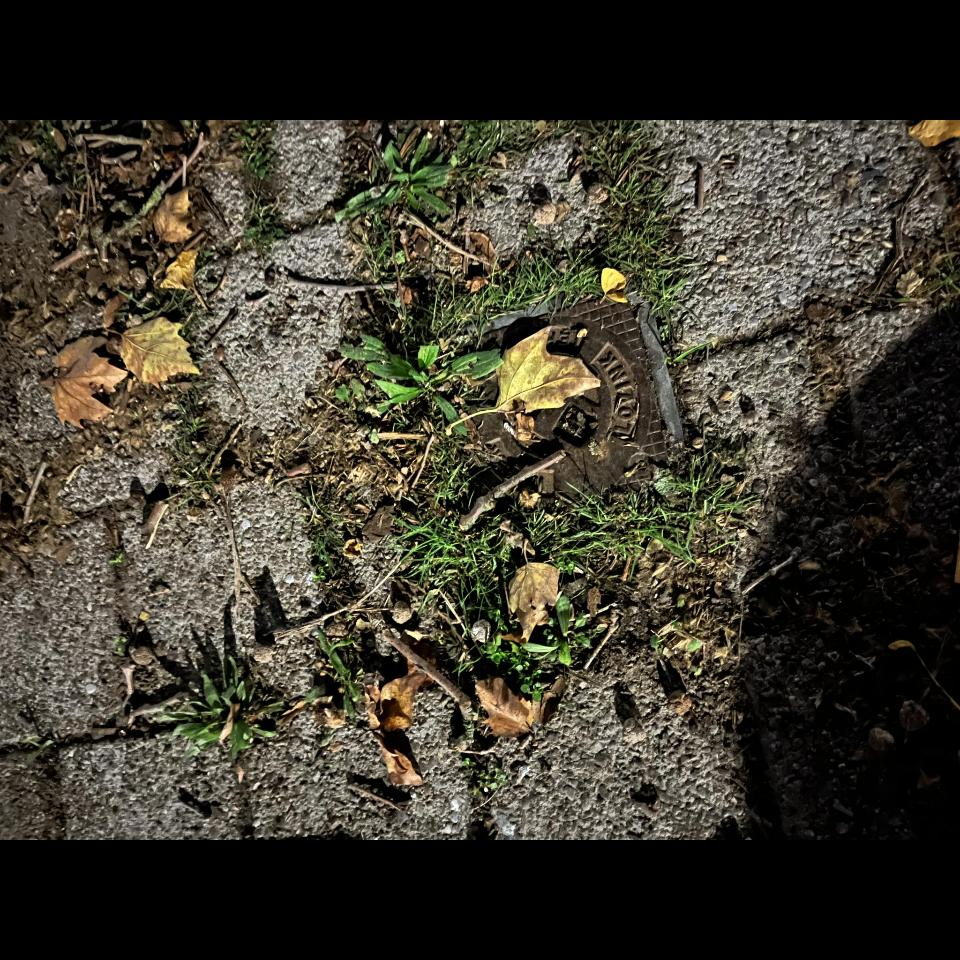weed: (289, 124, 520, 230), (578, 120, 687, 315), (427, 248, 599, 346), (341, 335, 502, 422), (560, 473, 712, 561), (398, 515, 514, 630), (159, 656, 283, 759), (482, 595, 600, 699), (600, 215, 692, 330), (317, 630, 359, 716), (244, 183, 284, 250)
